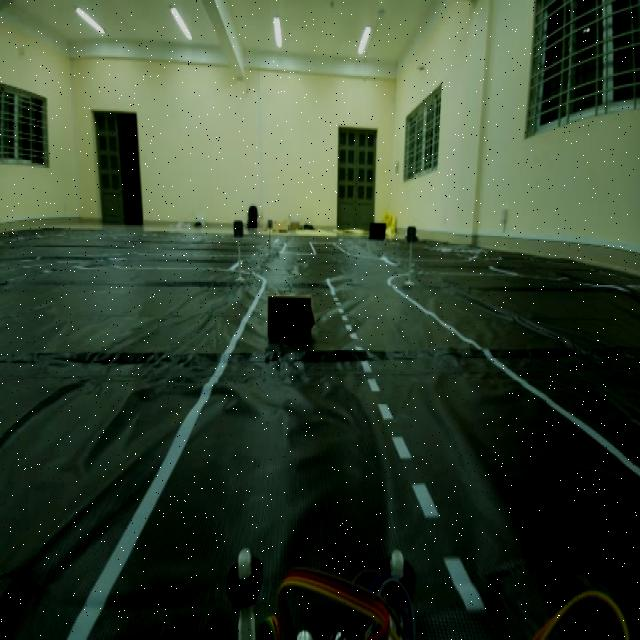roadblock: (264, 289, 317, 348)
